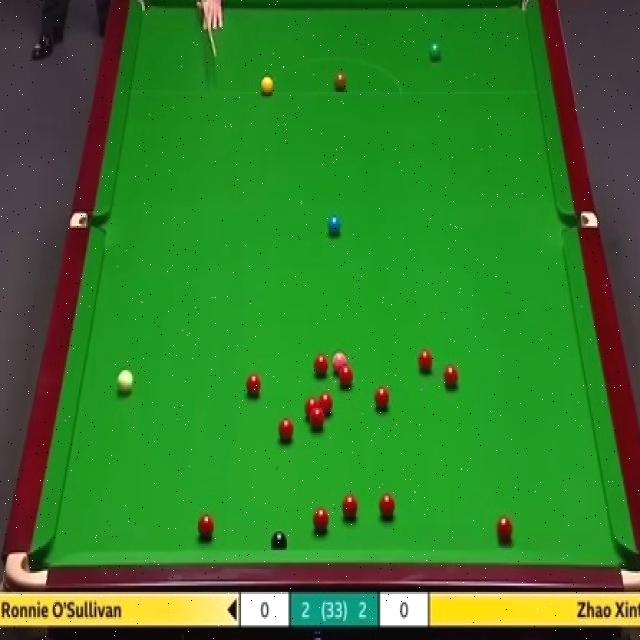black-ball: (270, 531, 288, 551)
blue-ball: (326, 211, 342, 238)
brown-ball: (334, 72, 346, 91)
green-ball: (427, 42, 442, 62)
pink-ball: (333, 352, 348, 375)
red-ball: (495, 514, 514, 544), (417, 346, 435, 376), (378, 492, 396, 520), (197, 513, 215, 540), (342, 494, 358, 521), (246, 375, 262, 401), (278, 418, 294, 443), (314, 507, 329, 533), (444, 364, 459, 390), (374, 386, 389, 412), (319, 393, 333, 419), (339, 364, 354, 388), (311, 410, 324, 431), (305, 397, 318, 418), (315, 356, 328, 376)
white-ball: (114, 365, 134, 398)
yellow-ball: (260, 74, 274, 95)
